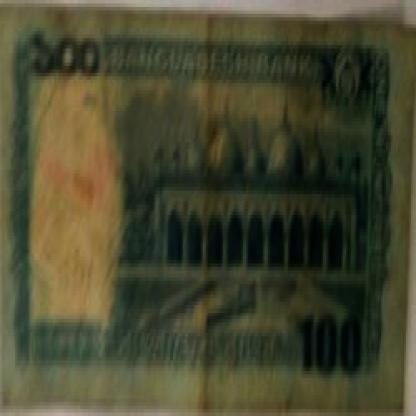one hundred taka: (26, 24, 110, 90), (293, 305, 364, 381)
